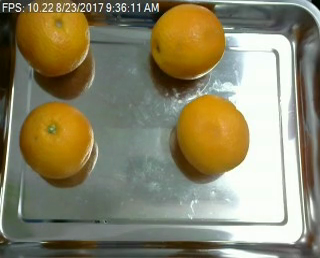Orange: (150, 3, 226, 81), (20, 100, 94, 180), (178, 95, 250, 176), (15, 8, 91, 77)
